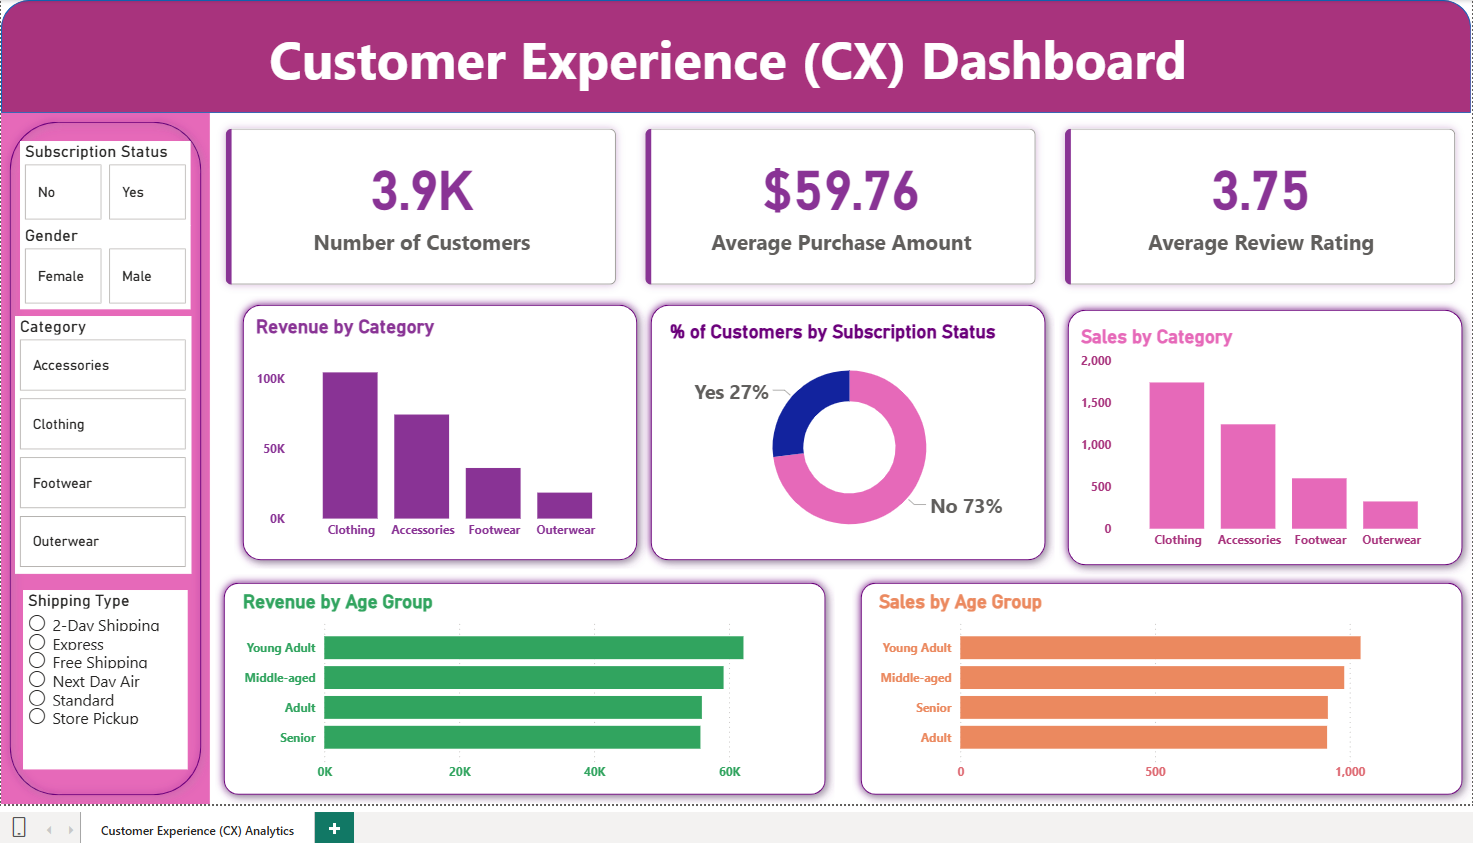

The page's visual inventory and layout, read from the dashboard file:
{"tool":"powerbi","page":{"name":"Customer Experience (CX) Analytics","canvas":[1500,820],"ordinal":0},"visuals":[{"type":"cardVisual","fields":{"Data":["public customer.Number of Customers","public customer.Average Purchase Amount","public customer.Average Review Rating"]},"box":[212.9,115.3,1286.5,191.6],"z":0},{"type":"shape","box":[0,0,1499.4,115.3],"z":1000},{"type":"textbox","box":[266.2,17.3,965.8,80.6],"z":2000},{"type":"shape","box":[218.3,585.6,631.7,234.2],"z":2500,"group":"g1"},{"type":"shape","box":[0,115.2,213.2,704.8],"z":3000},{"type":"advancedSlicerVisual","fields":{"Values":["public customer.subscription_status"]},"box":[19.4,143.8,174.4,85.7],"z":4000},{"type":"advancedSlicerVisual","fields":{"Values":["public customer.gender"]},"box":[19.4,229.5,174.4,85.7],"z":5000},{"type":"shape","box":[653.8,301.9,420.5,278.6],"z":5000,"group":"g2"},{"type":"advancedSlicerVisual","fields":{"Values":["public customer.category"]},"box":[14.3,322.3,179.5,263.1],"z":6000},{"type":"donutChart","title":"% of Customers by Subscription Status","fields":{"Category":["public customer.subscription_status"],"Y":["CountNonNull(public customer.customer_id)"]},"box":[676.9,326.7,376.2,237.8],"z":6000,"group":"g2"},{"type":"shape","box":[1078.9,307,420.5,278.6],"z":7000,"group":"g4"},{"type":"listSlicer","fields":{"Values":["public customer.shipping_type"]},"box":[22.4,601.7,168.3,182.6],"z":7000},{"type":"shape","box":[237.1,302,420.2,278.4],"z":8000,"group":"g3"},{"type":"shape","box":[867.7,585.6,631.7,234.2],"z":8000},{"type":"clusteredColumnChart","title":"Revenue by Category","fields":{"Y":["Sum(public customer.purchase_amount)"],"Category":["public customer.category"]},"box":[254.4,321.4,384.5,237.6],"z":9000,"group":"g3"},{"type":"clusteredBarChart","title":"Sales by Age Group","fields":{"Y":["CountNonNull(public customer.customer_id)"],"Category":["public customer.age_group"]},"box":[890.8,601.5,585.6,204.1],"z":9000},{"type":"clusteredColumnChart","title":"Sales by Category","fields":{"Y":["CountNonNull(public customer.customer_id)"],"Category":["public customer.category"]},"box":[1096.6,331.8,385.1,237.8],"z":10000,"group":"g4"},{"type":"group","id":"g1","title":"Group 1","box":[218.3,585.6,631.7,234.2],"z":10000},{"type":"group","id":"g2","title":"Group 2","box":[653.8,301.9,420.2,278.4],"z":11000},{"type":"group","id":"g3","title":"Group 3","box":[237.1,302,420.2,278.4],"z":12000},{"type":"group","id":"g4","title":"Group 4","box":[1078.9,307,420.5,278.6],"z":13000},{"type":"clusteredBarChart","title":"Revenue by Age Group","fields":{"Y":["Sum(public customer.purchase_amount)"],"Category":["public customer.age_group"]},"box":[241.4,601.6,585.6,204.1],"z":17500,"group":"g1"}]}

Visuals, with their boxes in screenshot pixels (x1, y1, x2, y2):
cardVisual - public customer.Number of Customers x public customer.Average Purchase Amount: <box>206,112,1452,297</box>
shape: <box>0,0,1452,112</box>
textbox: <box>258,17,1193,95</box>
shape: <box>211,567,823,794</box>
shape: <box>0,112,206,794</box>
advancedSlicerVisual - public customer.subscription_status: <box>19,139,188,222</box>
advancedSlicerVisual - public customer.gender: <box>19,222,188,305</box>
shape: <box>633,292,1040,562</box>
advancedSlicerVisual - public customer.category: <box>14,312,188,567</box>
"% of Customers by Subscription Status" donutChart: <box>656,316,1020,547</box>
shape: <box>1045,297,1452,567</box>
listSlicer - public customer.shipping_type: <box>22,583,185,760</box>
shape: <box>230,292,637,562</box>
shape: <box>840,567,1452,794</box>
"Revenue by Category" clusteredColumnChart: <box>246,311,619,541</box>
"Sales by Age Group" clusteredBarChart: <box>863,583,1430,780</box>
"Sales by Category" clusteredColumnChart: <box>1062,321,1435,552</box>
"Group 1" group: <box>211,567,823,794</box>
"Group 2" group: <box>633,292,1040,562</box>
"Group 3" group: <box>230,292,637,562</box>
"Group 4" group: <box>1045,297,1452,567</box>
"Revenue by Age Group" clusteredBarChart: <box>234,583,801,780</box>
